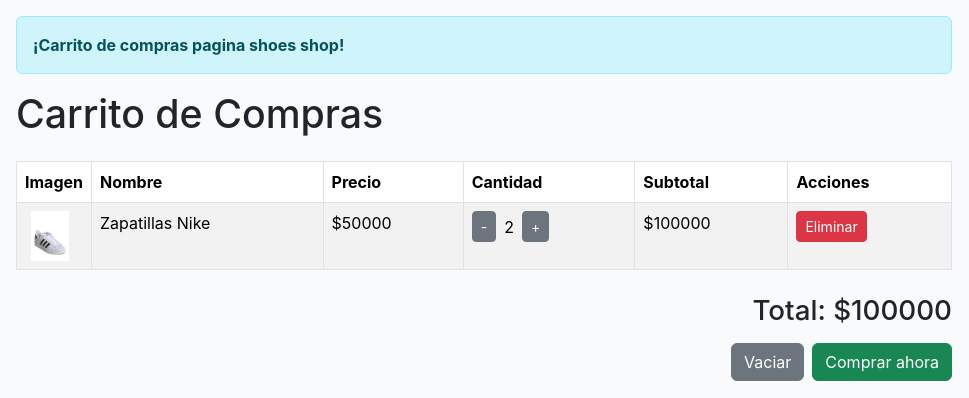
Scenario: Cart › debe aumentar la cantidad al pulsar +
This screenshot has width=969, height=398.
Click the button "+" at (536, 227), box 522,211 -> 549,242
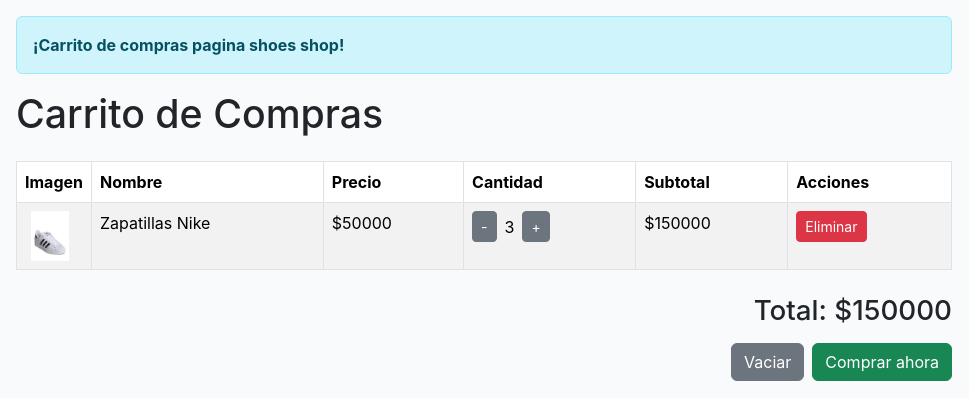
Expected: the text "3" is shown, 504,215 -> 514,239
